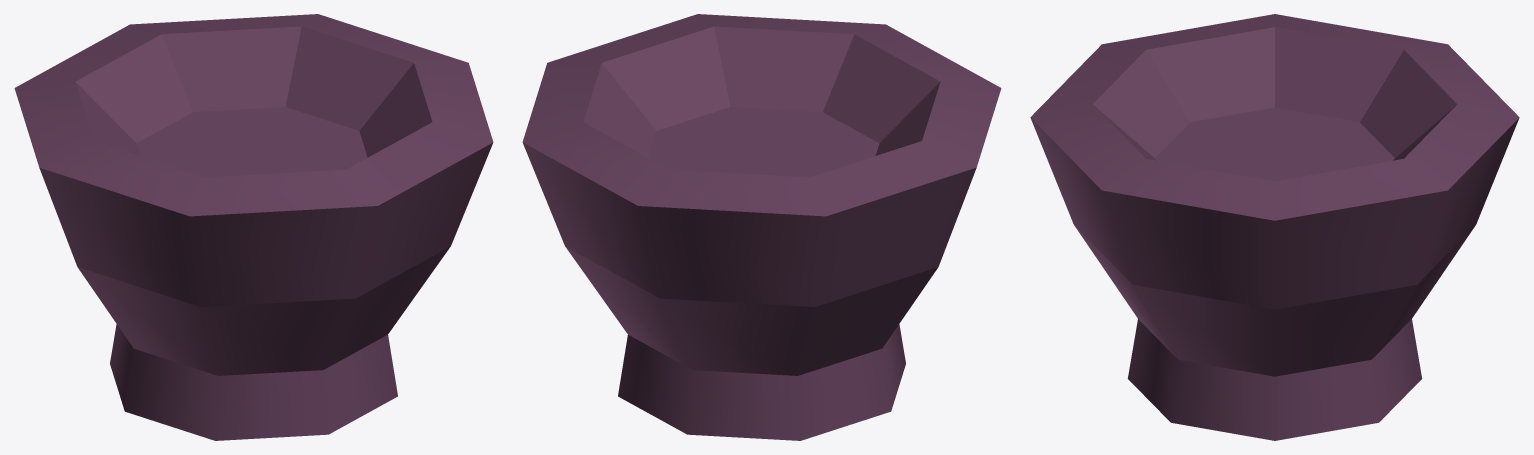
The model's file is Pot.fbx.
3 views of the same model, side by side, from view 1: azimuth 30°, elevation 25°; view 2: azimuth 150°, elevation 25°; view 3: azimuth 270°, elevation 25° (orthographic).
Parts seen in each view (by area): view 1: Pot; view 2: Pot; view 3: Pot.
Part boxes in pixels (x1,y1,x2,y2): Pot: (14,14,493,440); Pot: (522,14,1001,440); Pot: (1030,14,1519,440).
Bounding box in the file's own units: 0.4737 × 0.2932 × 0.4737.
